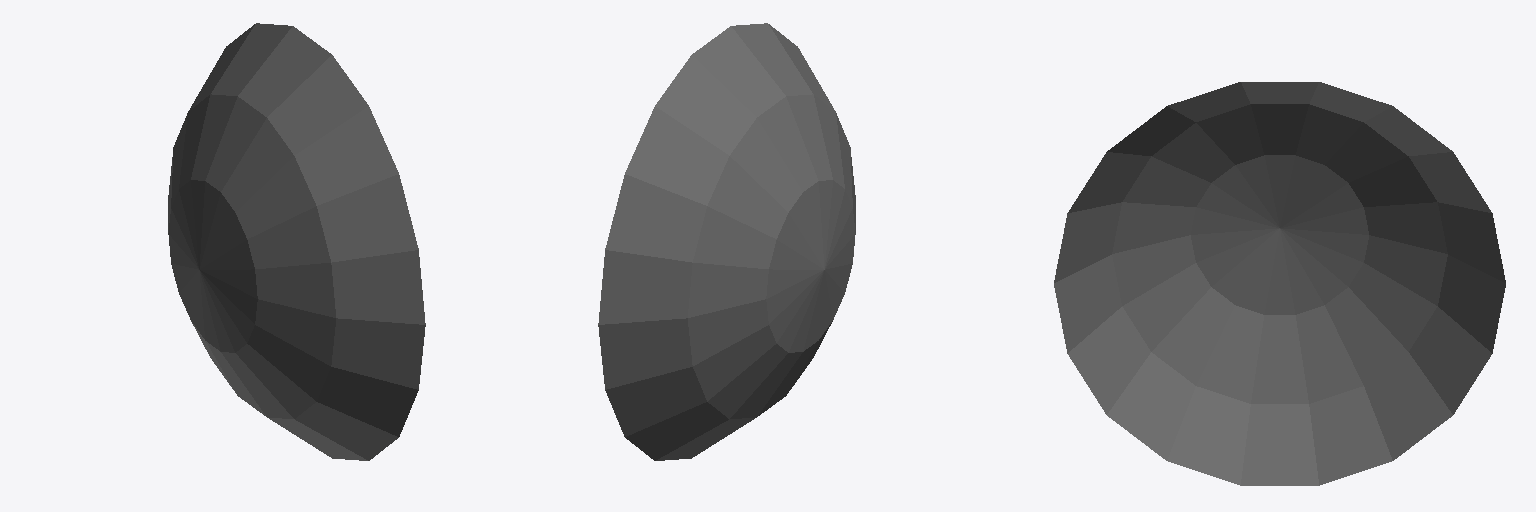
File: droid_heart.obj
3 views of the same model, side by side, from view 1: azimuth 30°, elevation 25°; view 2: azimuth 150°, elevation 25°; view 3: azimuth 270°, elevation 25° (orthographic).
Visible parts, largest first — view 1: Sphere002; view 2: Sphere002; view 3: Sphere002.
Part boxes in pixels (left/top/right/bottom): Sphere002: left=168, top=23, right=425, bottom=460; Sphere002: left=598, top=23, right=855, bottom=460; Sphere002: left=1054, top=82, right=1505, bottom=485.
Bounding box in the file's own units: 0.1824 × 0.6222 × 0.6318.